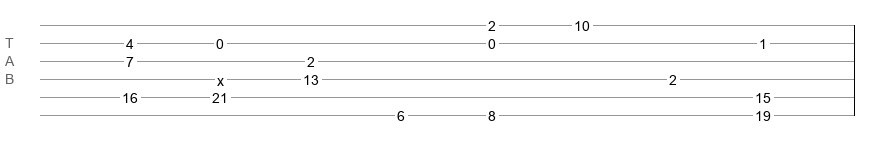0: (216, 36, 224, 46), (488, 36, 496, 46)
1: (759, 36, 767, 46)
10: (574, 18, 590, 28)
13: (303, 72, 319, 82)
15: (755, 90, 771, 100)
16: (122, 90, 138, 100)
19: (755, 108, 771, 118)
2: (307, 54, 315, 64), (488, 18, 496, 28), (669, 72, 677, 82)
21: (212, 90, 228, 100)
4: (126, 36, 134, 46)
6: (397, 108, 405, 118)
7: (126, 54, 134, 64)
8: (488, 108, 496, 118)
x: (217, 73, 224, 81)
